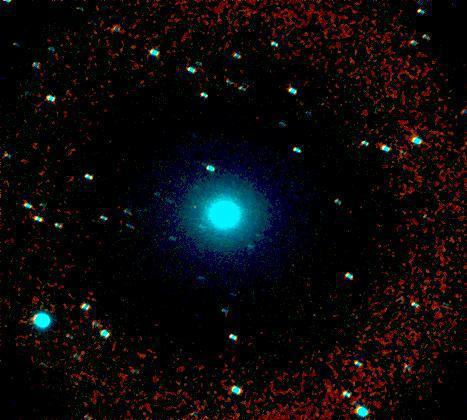star: (182, 191, 212, 221)
